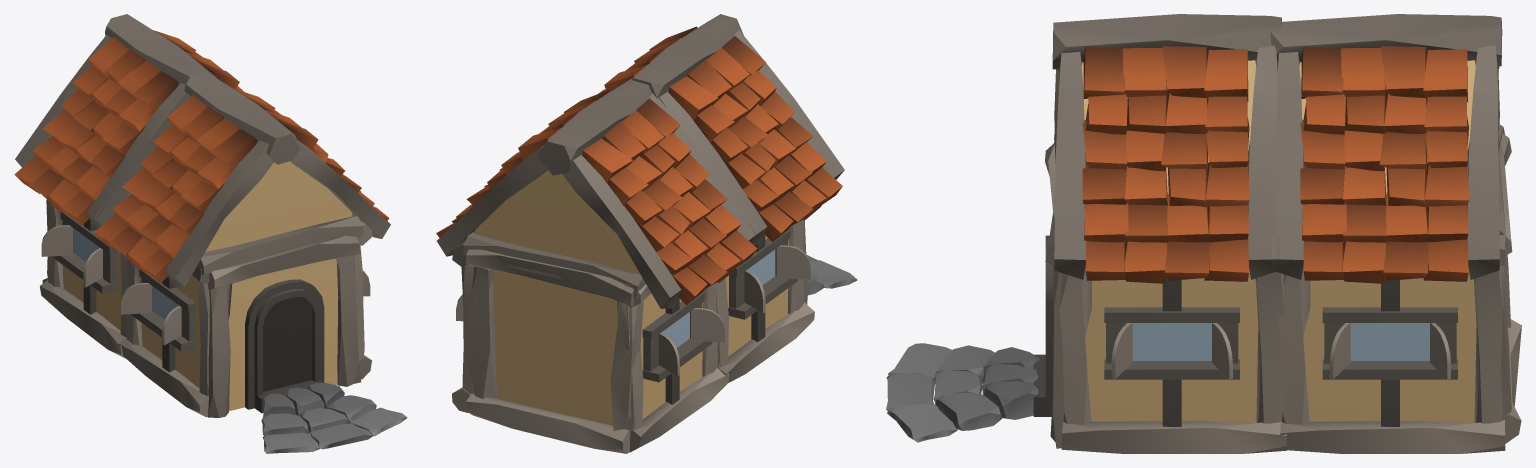
Rendered from mini_building2.fbx.
3 renders of one model, left to right at view 1: azimuth 30°, elevation 25°; view 2: azimuth 150°, elevation 25°; view 3: azimuth 270°, elevation 25°, orthographic. The views are drawn at different scales.
Parts seen in each view (by area): view 1: mini_building2; view 2: mini_building2; view 3: mini_building2.
Part boxes in pixels (box(x1,y1,x2,y2)): mini_building2: box(14, 14, 407, 453); mini_building2: box(436, 14, 857, 453); mini_building2: box(886, 14, 1521, 453).
Bounding box in the file's own units: 8.33 × 8.91 × 13.84.
